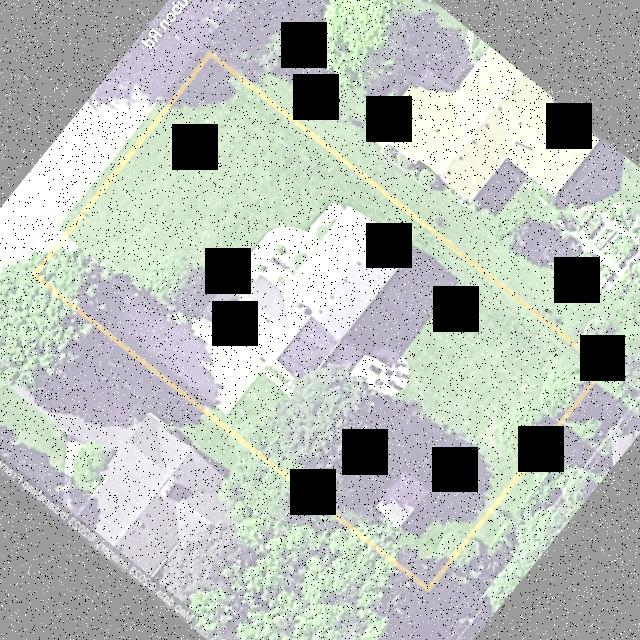Driveway: (42, 204, 343, 411), (65, 238, 73, 245)
Extra Driveway: (37, 226, 64, 252)
Extra Lawn: (58, 45, 209, 230)
House: (220, 207, 409, 388)
Other: (351, 346, 409, 400), (375, 471, 428, 525)
Sidewalk: (325, 339, 366, 378)
